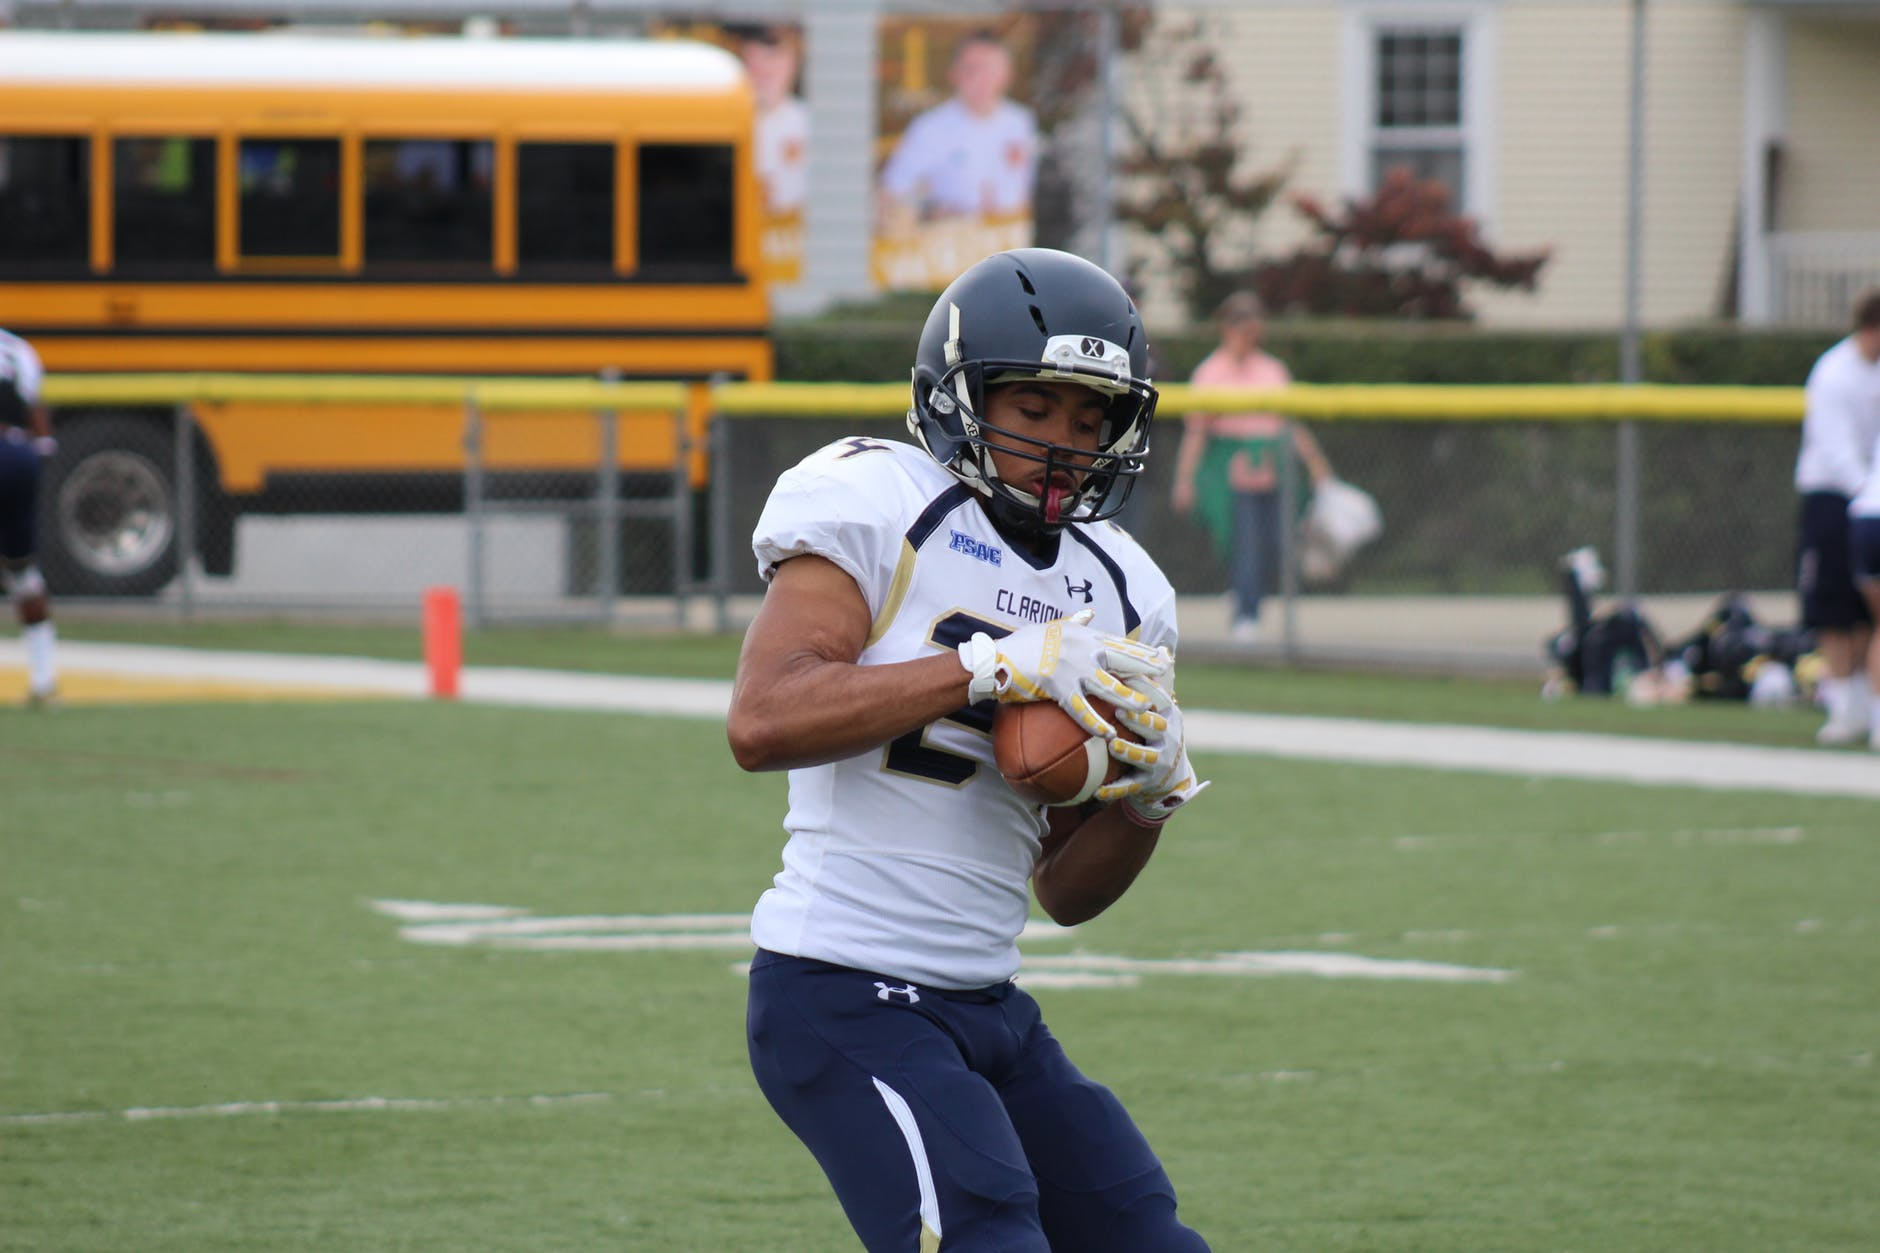helmet: (889, 241, 1181, 475)
